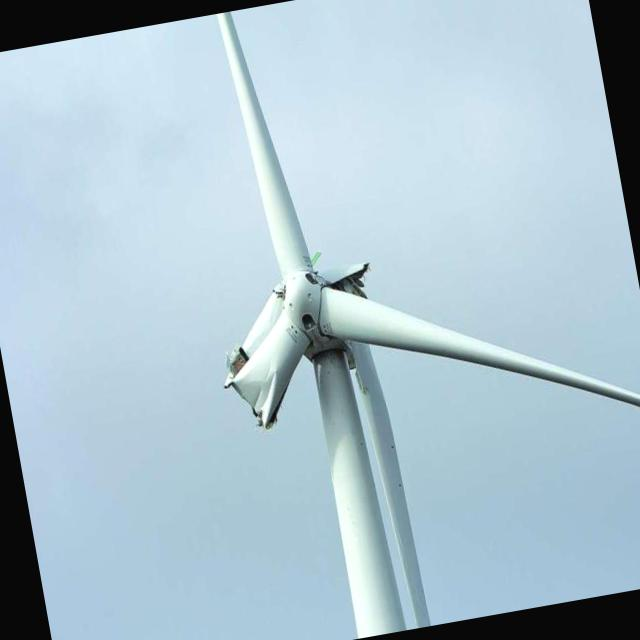crack: (217, 255, 404, 442)
